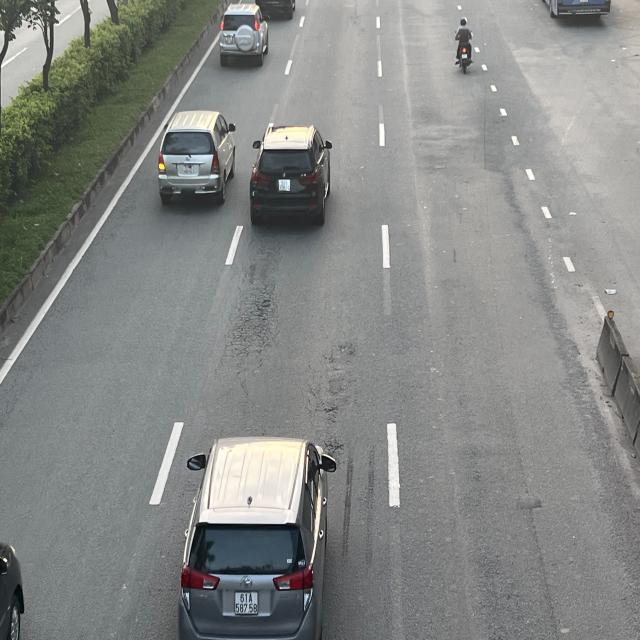car: (180, 439, 338, 640), (248, 124, 334, 225), (159, 111, 239, 205), (216, 4, 269, 69)
